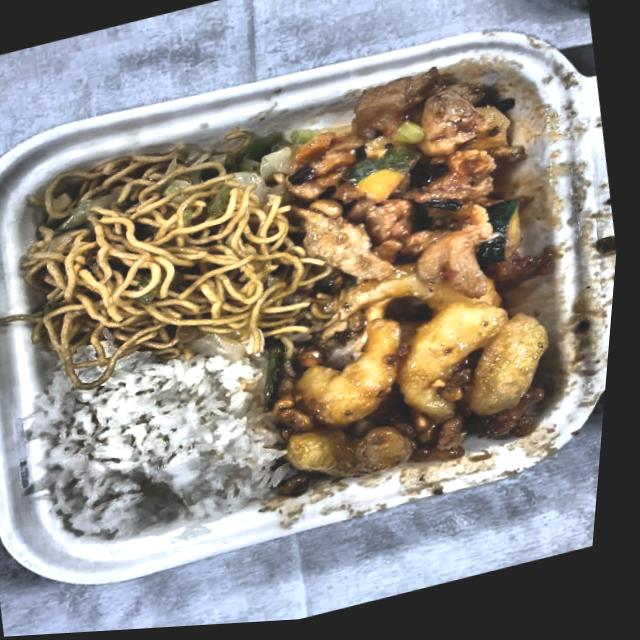Food: (0, 109, 334, 399), (239, 244, 583, 513), (264, 47, 569, 315), (10, 319, 317, 568)
